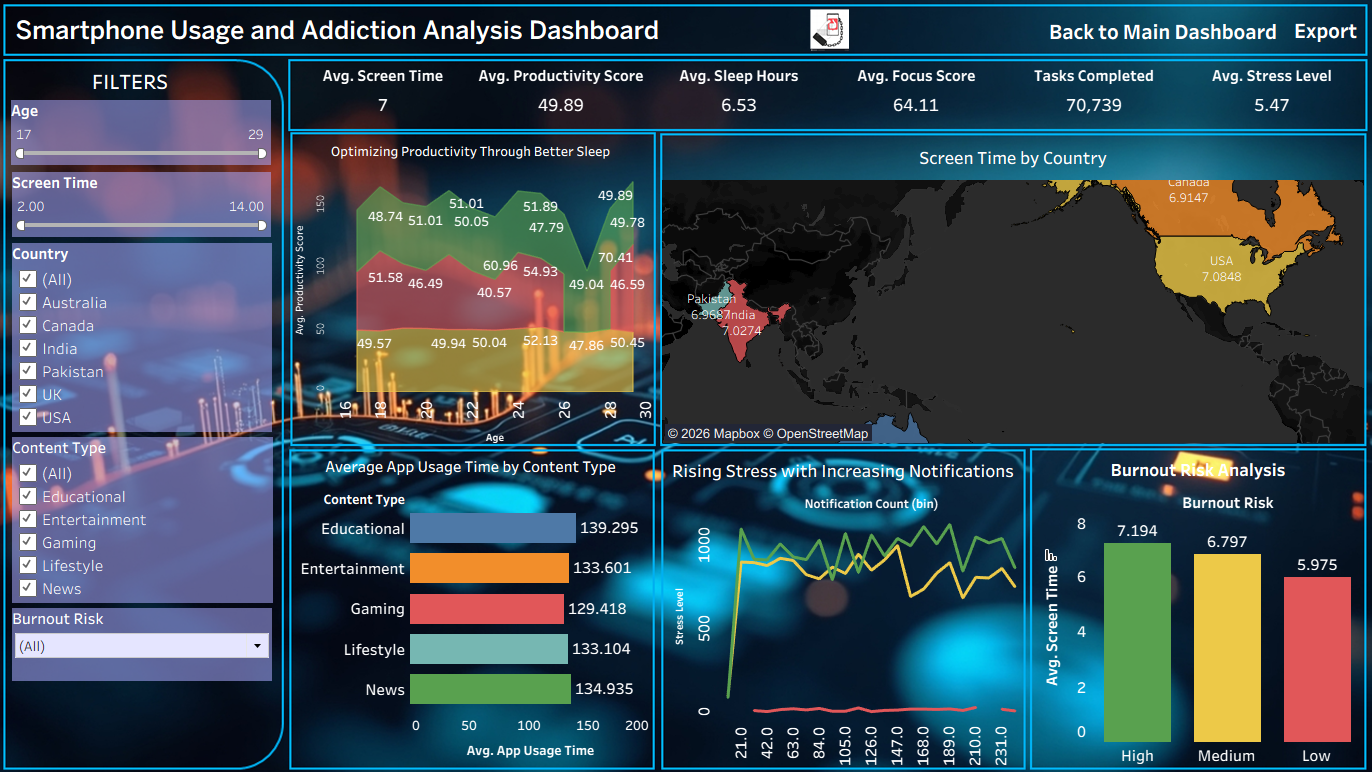

This screenshot's page, from the dashboard's own definition file:
{"tool":"tableau","page":{"name":"didgital_Addiction_and_productivity_dashboard (2)","canvas":[1400,800],"ordinal":1},"visuals":[{"type":"image","param":"Image/digital_addiction_bg.PNG","box":[8,8,1384,784]},{"type":"image","param":"Image/addiction.png","box":[818,21,52,42]},{"type":"dashboard-object","box":[1053,23,249,40]},{"type":"text","box":[26,27,651,30]},{"type":"worksheet","title":"KPI","mark":"Automatic","box":[308,77,1067,60]},{"type":"text","box":[94,78,100,30]},{"type":"filter","title":"Filters","param":"[federated.1l17ptl0z298e1154kmrq1arx611].[none:Age:qk]","box":[25,112,260,65]},{"type":"worksheet","title":"Optimizing Productivity Through Better Sleep","mark":"Area","rows":["Productivity Score"],"cols":["Age"],"box":[299,150,371,306]},{"type":"worksheet","title":"Screen Time by Country","mark":"Multipolygon","box":[676,153,702,302]},{"type":"filter","title":"Filters","param":"[federated.1l17ptl0z298e1154kmrq1arx611].[none:Screen Time:qk]","box":[26,184,259,65]},{"type":"filter","title":"Filters","param":"[federated.1l17ptl0z298e1154kmrq1arx611].[none:Country:nk]","box":[26,255,260,189]},{"type":"filter","title":"Filters","param":"[federated.1l17ptl0z298e1154kmrq1arx611].[none:Content Type:nk]","box":[26,449,261,166]},{"type":"worksheet","title":"Average App Usage Time by Content Type","mark":"Automatic","rows":["Content Type"],"cols":["App Usage Time"],"box":[304,464,361,314]},{"type":"worksheet","title":"Rising Stress with Increasing Notifications","mark":"Line","rows":["Stress Level"],"cols":["Notification Count (bin)"],"box":[679,466,356,313]},{"type":"worksheet","title":"Burnout Risk Analysis","mark":"Automatic","rows":["Screen Time"],"cols":["Burnout Risk"],"box":[1048,466,328,313]},{"type":"filter","title":"Filters","param":"[federated.1l17ptl0z298e1154kmrq1arx611].[none:Burnout Risk:nk]","box":[26,620,260,73]},{"type":"worksheet","title":"Filters","mark":"Automatic","box":[822,662,60,24]}]}

Visuals, with their boxes in screenshot pixels (x1, y1, x2, y2), scaled from the page's 1400x800 canvas onto the 1372x772 screenshot:
image: (8,8,1364,764)
image: (802,20,853,61)
dashboard-object: (1032,22,1276,61)
text: (25,26,663,55)
"KPI" worksheet: (302,74,1348,132)
text: (92,75,190,104)
"Filters" filter: (24,108,279,171)
"Optimizing Productivity Through Better Sleep" worksheet (Area marks): (293,145,657,440)
"Screen Time by Country" worksheet (Multipolygon marks): (662,148,1350,439)
"Filters" filter: (25,178,279,240)
"Filters" filter: (25,246,280,428)
"Filters" filter: (25,433,281,593)
"Average App Usage Time by Content Type" worksheet: (298,448,652,751)
"Rising Stress with Increasing Notifications" worksheet (Line marks): (665,450,1014,752)
"Burnout Risk Analysis" worksheet: (1027,450,1348,752)
"Filters" filter: (25,598,280,669)
"Filters" worksheet: (806,639,864,662)
